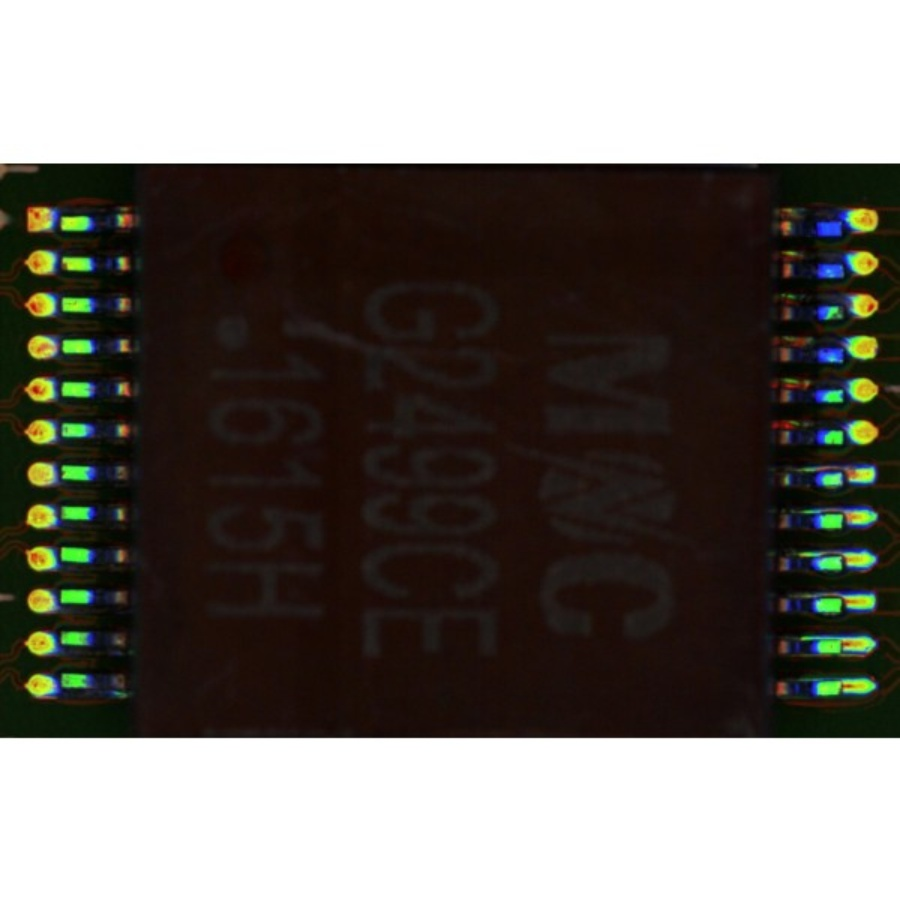Bad_podu: (829, 641, 865, 651), (828, 681, 862, 691), (832, 598, 865, 608), (830, 557, 866, 566), (832, 472, 862, 482), (835, 513, 861, 523)
Bad_qiaojiao: (788, 550, 839, 559), (791, 464, 841, 473), (790, 590, 839, 598), (792, 633, 839, 641), (792, 507, 842, 514)
